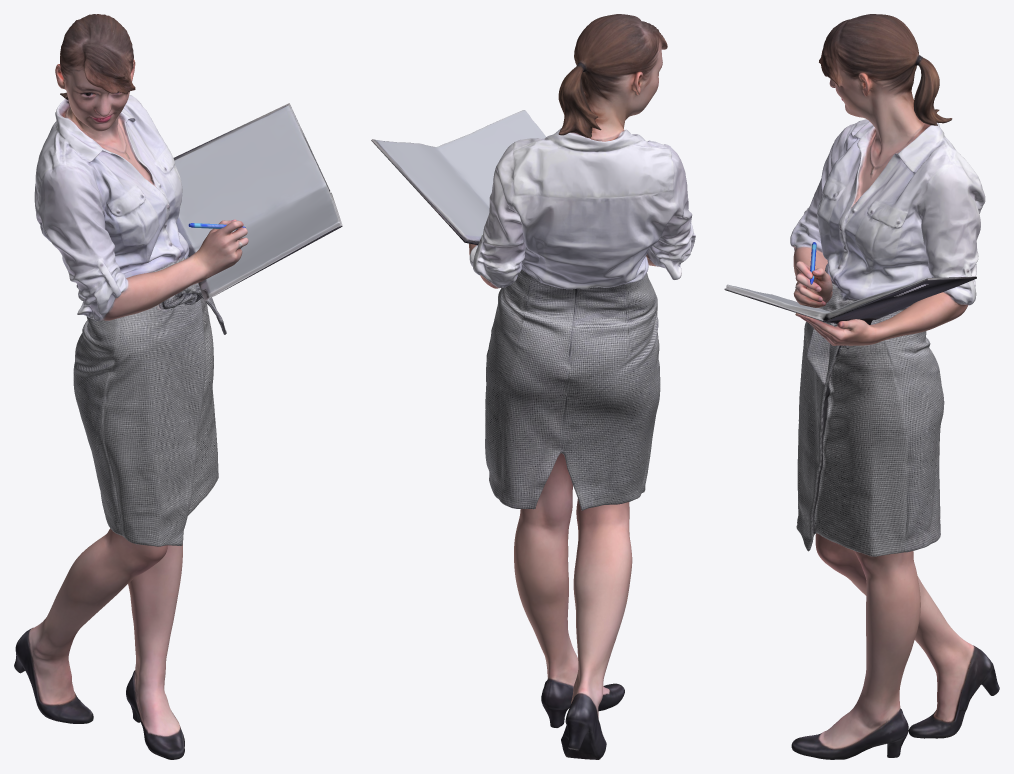
The model's file is person_woman.glb.
The picture shows the model from 3 angles, left to right: view 1: azimuth 30°, elevation 25°; view 2: azimuth 150°, elevation 25°; view 3: azimuth 270°, elevation 25°; orthographic projection.
Visible parts, largest first — view 1: rw0220011; view 2: rw0220011; view 3: rw0220011.
Part boxes in pixels (box(x1,y1,x2,y2)): rw0220011: box(14, 14, 342, 759); rw0220011: box(371, 14, 695, 759); rw0220011: box(724, 14, 999, 759).
Bounding box in the file's own units: 0.6597 × 1.62 × 0.564.
1 material, 1 textured.
